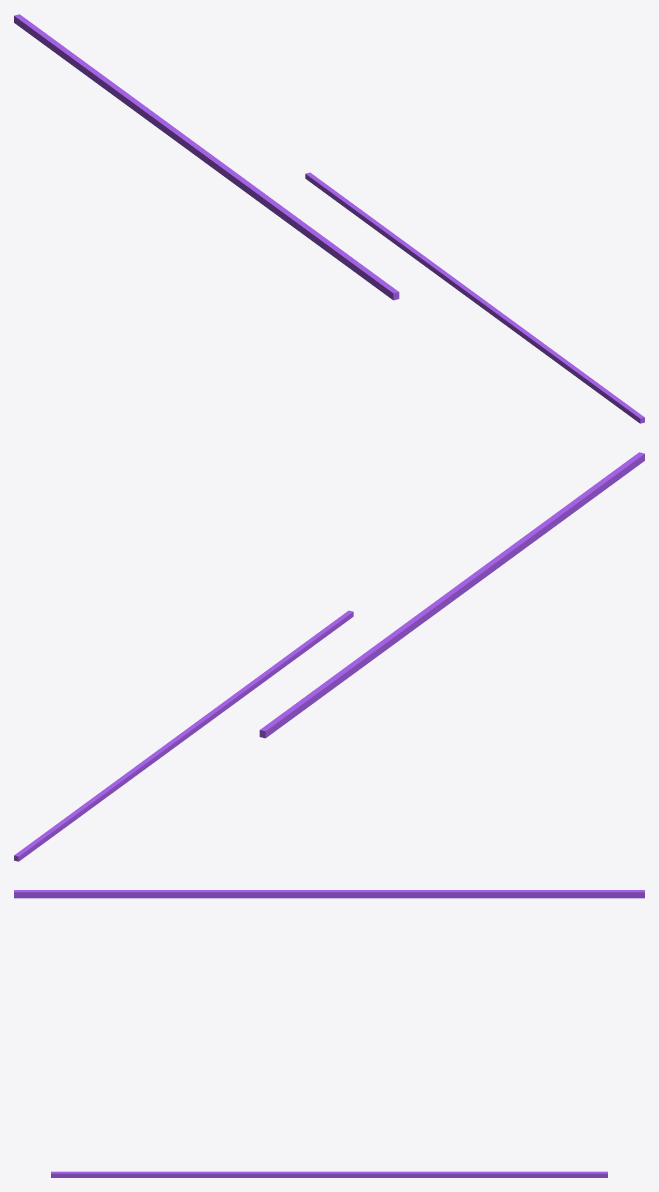
The model's file is BarNeon.fbx.
The picture shows the model from 3 angles, top to bottom: view 1: azimuth 30°, elevation 25°; view 2: azimuth 150°, elevation 25°; view 3: azimuth 270°, elevation 25°; orthographic projection. The views are drawn at different scales.
Parts seen in each view (by area): view 1: BarNeonTop.001; view 2: BarNeonTop.001; view 3: BarNeonTop.001.
Boxes of the visible parts, x1,y1,x2,y2 form: BarNeonTop.001: (14, 14, 644, 423); BarNeonTop.001: (14, 452, 644, 861); BarNeonTop.001: (14, 890, 644, 1177).
Bounding box in the file's own units: 1417 × 1050 × 3400.
